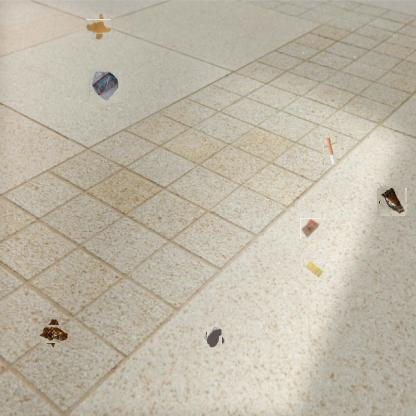dirty: (88, 70, 120, 102), (378, 187, 406, 215), (39, 321, 65, 347), (303, 258, 325, 280), (300, 218, 321, 239), (323, 135, 337, 165)
liquid: (88, 17, 109, 37), (205, 329, 224, 348)
